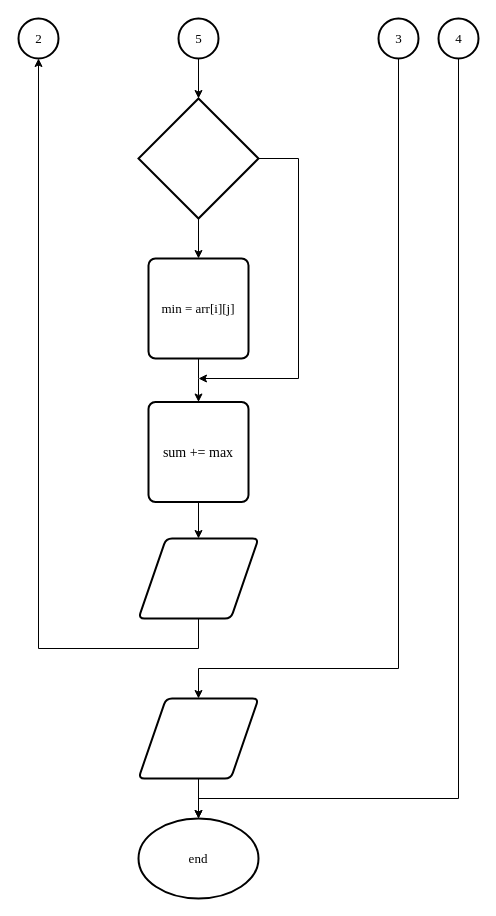
Image size: 496x916. Some labels were removed from this diagram. Each missing label, with the centre of its shape:
arr [ i ][ j ] < min: (x=198, y=158)
output: max: (x=198, y=578)
output: sum, min: (x=198, y=738)
